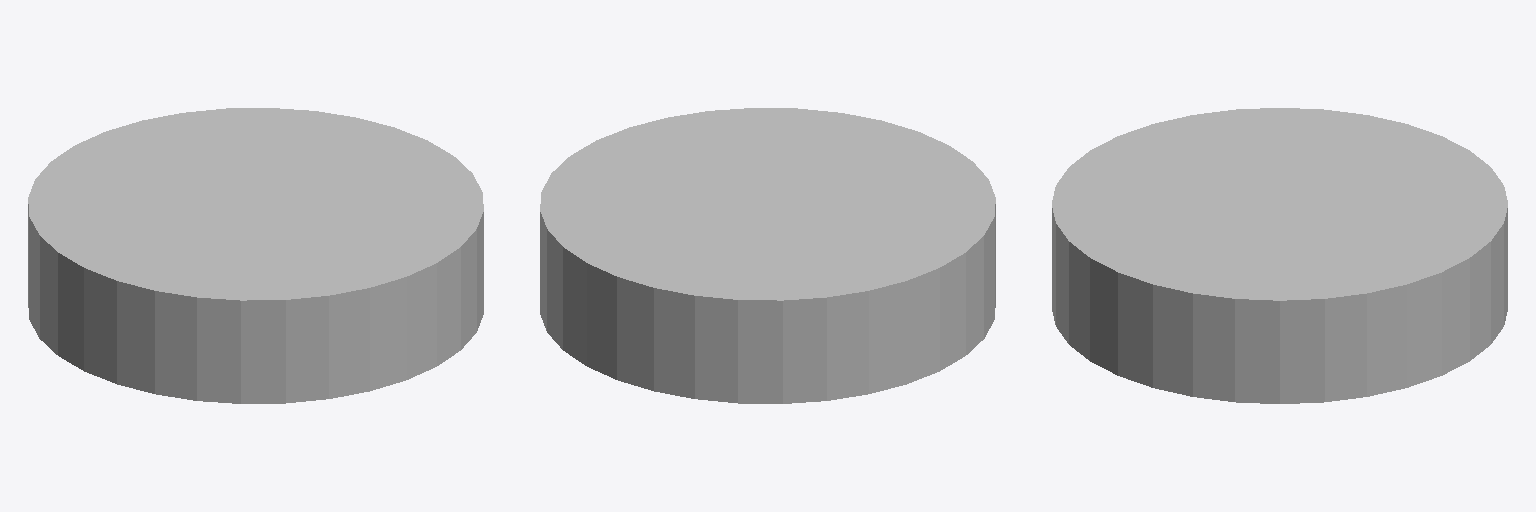
File: cilindro-2.obj
The picture shows the model from 3 angles: view 1: azimuth 30°, elevation 25°; view 2: azimuth 150°, elevation 25°; view 3: azimuth 270°, elevation 25°; orthographic projection.
Visible parts, largest first — view 1: cilindro-2; view 2: cilindro-2; view 3: cilindro-2.
Boxes of the visible parts, x1,y1,x2,y2 form: cilindro-2: [28, 108, 483, 403]; cilindro-2: [540, 108, 995, 403]; cilindro-2: [1052, 108, 1507, 403].
Bounding box in the file's own units: 0.0756 × 0.0189 × 0.0756.